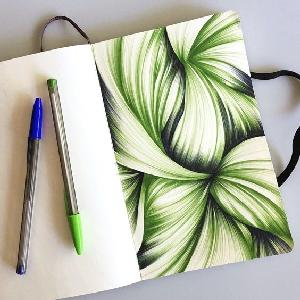pen: (10, 76, 93, 280)
